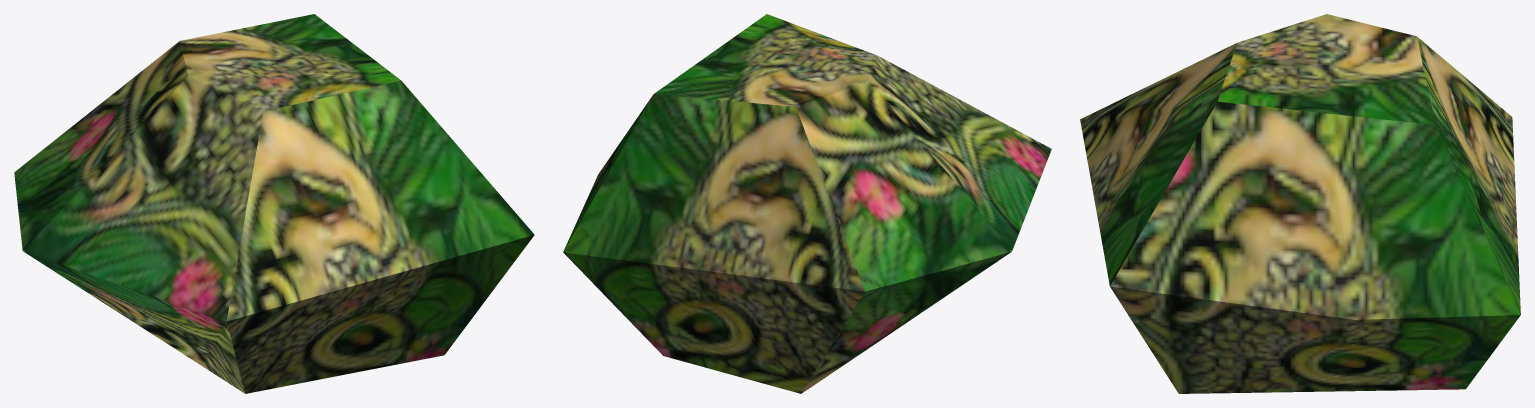
File: Bush.fbx
3 renders of one model, left to right at view 1: azimuth 30°, elevation 25°; view 2: azimuth 150°, elevation 25°; view 3: azimuth 270°, elevation 25°, orthographic. The views are drawn at different scales.
Parts seen in each view (by area): view 1: Cube.005; view 2: Cube.005; view 3: Cube.005.
Boxes of the visible parts, x1,y1,x2,y2 form: Cube.005: (14, 14, 534, 393); Cube.005: (563, 14, 1051, 393); Cube.005: (1080, 14, 1520, 393).
Size of the model in its own units: 1586 by 1059 by 1326.
